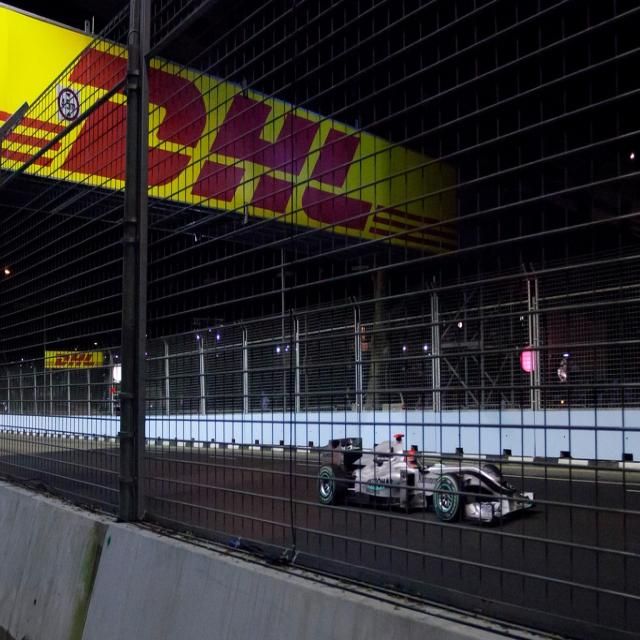dhl: (2, 32, 462, 252)
